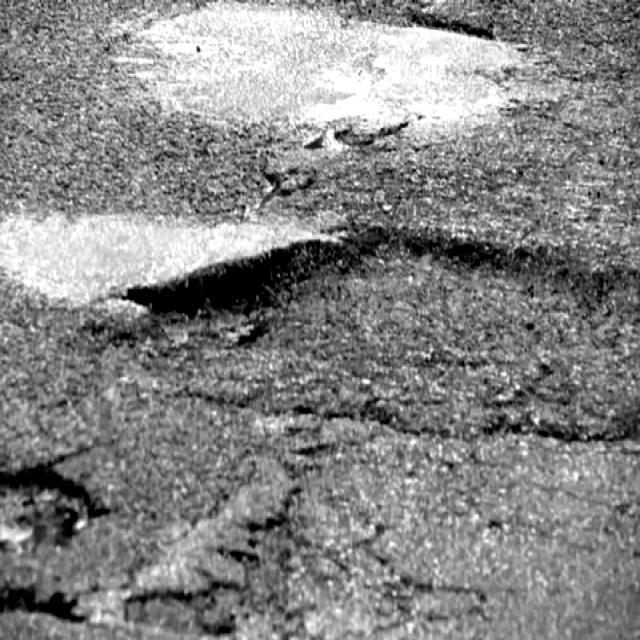pathole: (2, 166, 441, 635)
